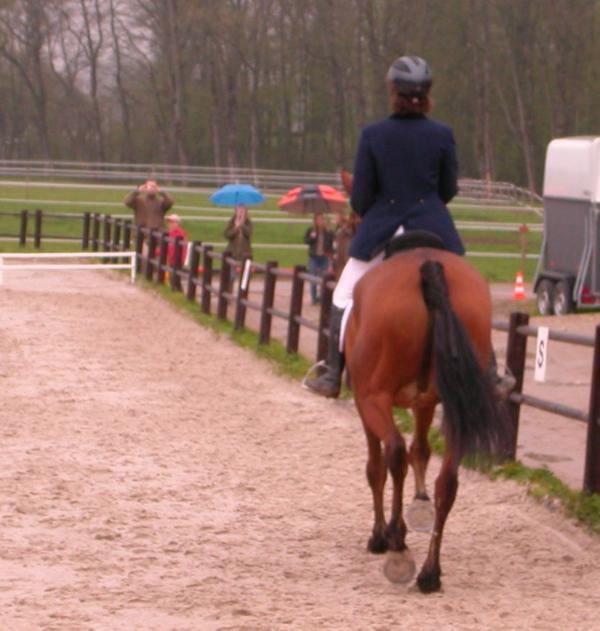person: (299, 55, 518, 406)
